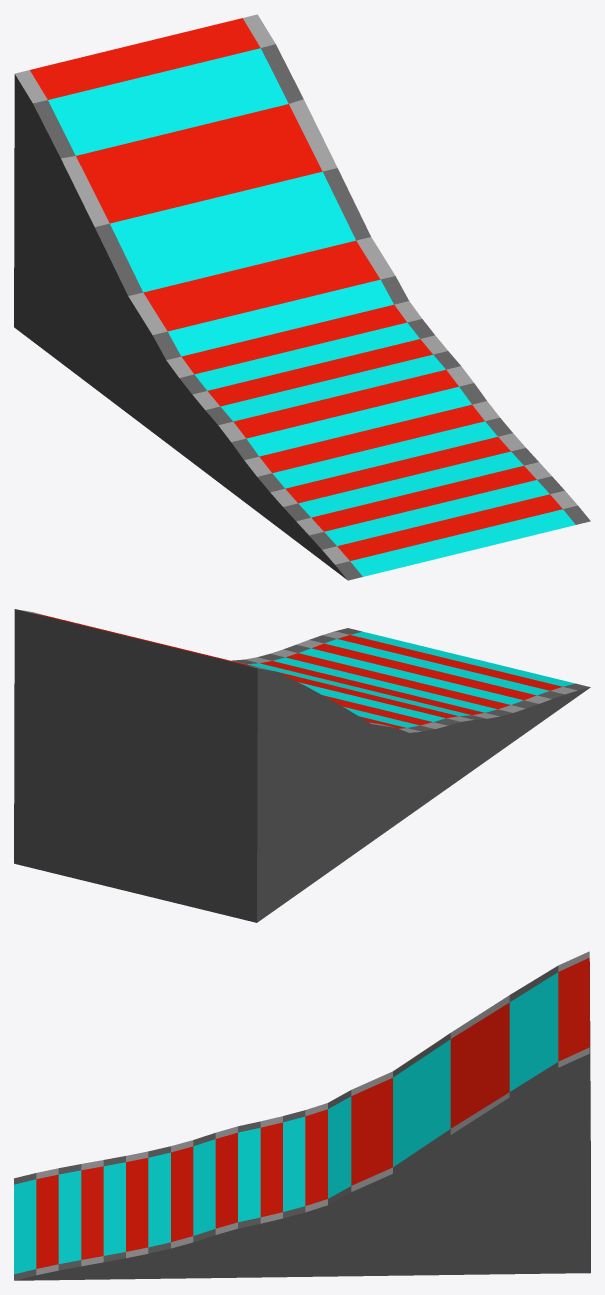
File: ramp.glb
3 views of the same model, one above another, from view 1: azimuth 30°, elevation 25°; view 2: azimuth 150°, elevation 25°; view 3: azimuth 270°, elevation 25° (orthographic). The views are drawn at different scales.
Visible parts, largest first — view 1: Cube; view 2: Cube; view 3: Cube.
Part boxes in pixels (box(x1,y1,x2,y2)): Cube: box(14, 14, 590, 580); Cube: box(14, 609, 590, 922); Cube: box(14, 951, 590, 1280).
Size of the model in its own units: 0.1095 by 0.113 by 0.2602.
